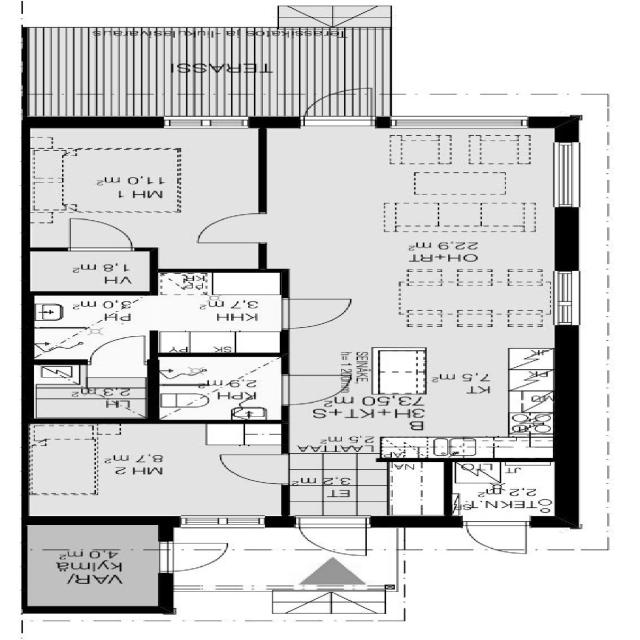door: (204, 448, 310, 487), (447, 519, 543, 559), (185, 208, 281, 246), (305, 81, 377, 127), (63, 213, 133, 258), (293, 518, 369, 558), (278, 292, 352, 331), (277, 373, 344, 411), (88, 337, 157, 366), (157, 542, 230, 568)
window: (379, 114, 551, 131), (547, 270, 592, 332), (170, 512, 288, 529), (558, 142, 580, 218), (137, 114, 254, 128)
zone: (258, 123, 570, 458), (30, 125, 260, 248), (28, 424, 293, 525), (27, 296, 285, 358), (153, 356, 285, 418), (452, 462, 570, 514)
